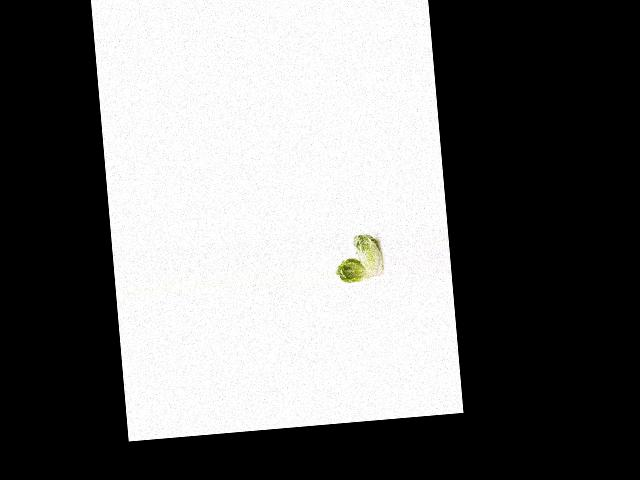lettuce: (349, 229, 385, 281)
